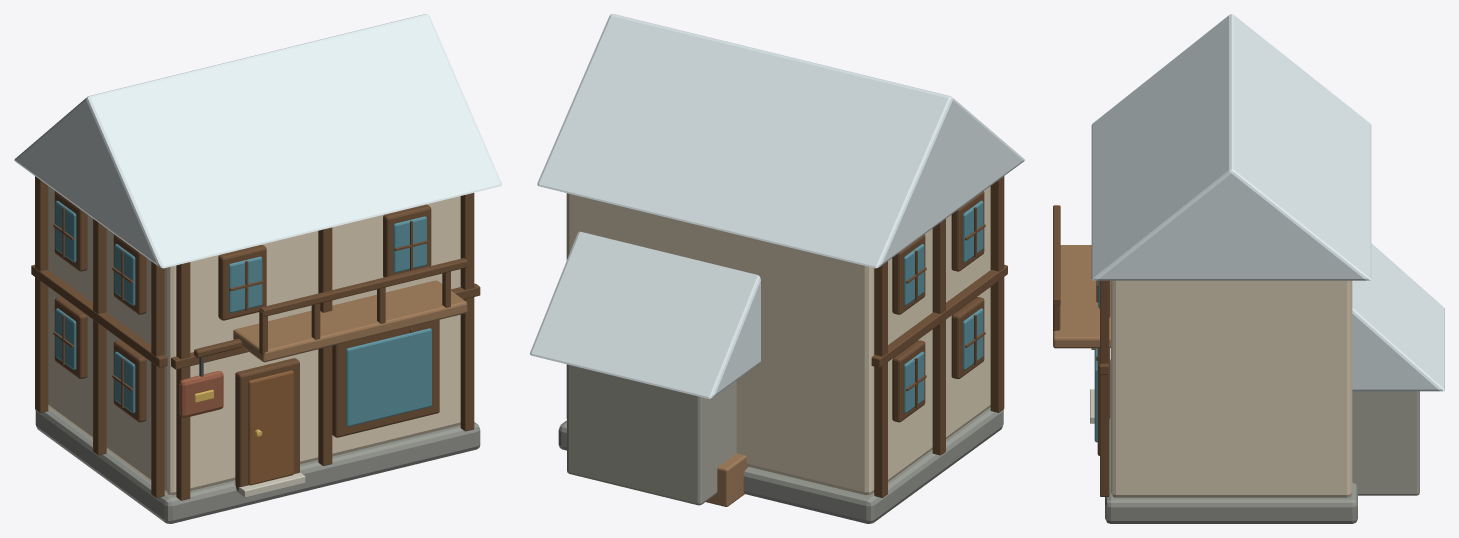
File: snowy-merchant-3.glb
3 renders of one model, left to right at view 1: azimuth 30°, elevation 25°; view 2: azimuth 150°, elevation 25°; view 3: azimuth 270°, elevation 25°, orthographic. The views are drawn at different scales.
Visible parts, largest first — view 1: Snow, Dark beams, Warm lime, Blue glass, Foundation stone, Aged oak, Door oak, Painted sign, Cut limestone; view 2: Snow, Warm lime, Fieldstone, Dark beams, Foundation stone, Blue glass, Aged oak; view 3: Snow, Warm lime, Foundation stone, Fieldstone, Aged oak, Dark beams.
Part boxes in pixels (box(x1,y1,x2,y2)): Snow: box(14, 14, 501, 268); Dark beams: box(31, 176, 480, 500); Warm lime: box(48, 186, 460, 495); Blue glass: box(55, 200, 431, 426); Foundation stone: box(35, 407, 480, 523); Aged oak: box(233, 280, 467, 362); Door oak: box(248, 370, 293, 485); Painted sign: box(179, 371, 223, 417); Cut limestone: box(234, 472, 305, 497); Snow: box(530, 14, 1024, 398); Warm lime: box(566, 186, 990, 495); Fieldstone: box(567, 364, 736, 505); Dark beams: box(871, 176, 1007, 497); Foundation stone: box(558, 407, 1003, 523); Blue glass: box(904, 200, 983, 413); Aged oak: box(706, 453, 748, 506); Snow: box(1091, 14, 1444, 391); Warm lime: box(1111, 280, 1352, 497); Foundation stone: box(1105, 359, 1357, 523); Fieldstone: box(1352, 391, 1419, 495); Aged oak: box(1053, 245, 1110, 348); Dark beams: box(1053, 205, 1110, 496).
Size of the model in its own units: 3.94 by 4.22 by 4.14.
